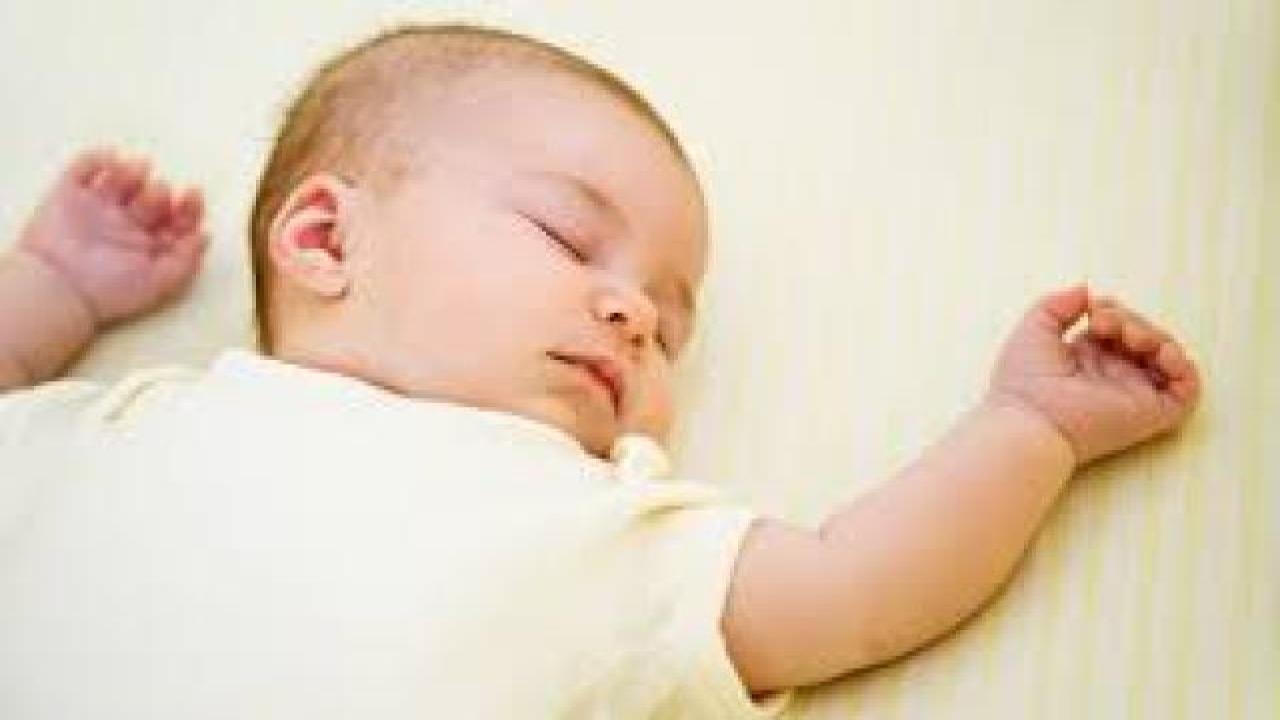hand: (992, 265, 1212, 464), (27, 131, 220, 320)
